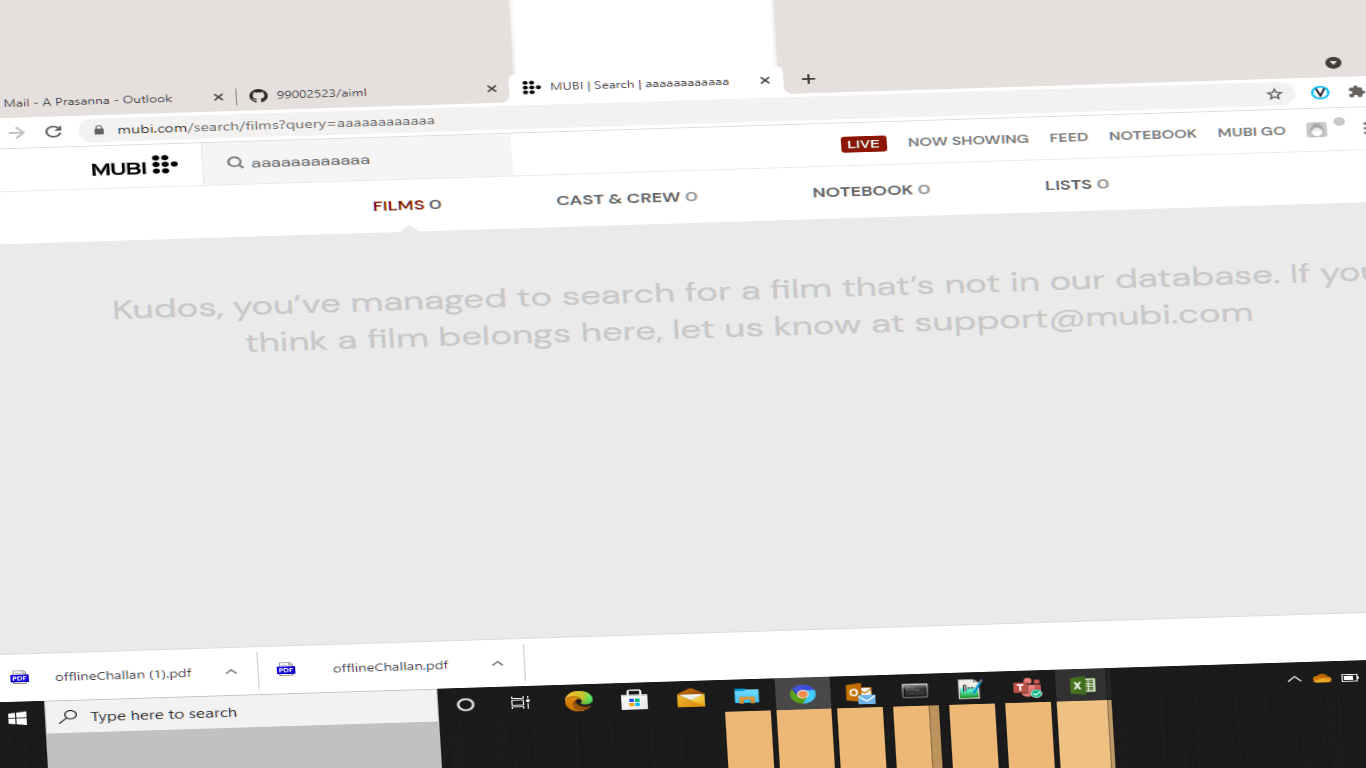profileicon: (1298, 108, 1340, 144)
searchicon: (223, 151, 252, 186)
searchtextbox: (194, 141, 560, 189)
